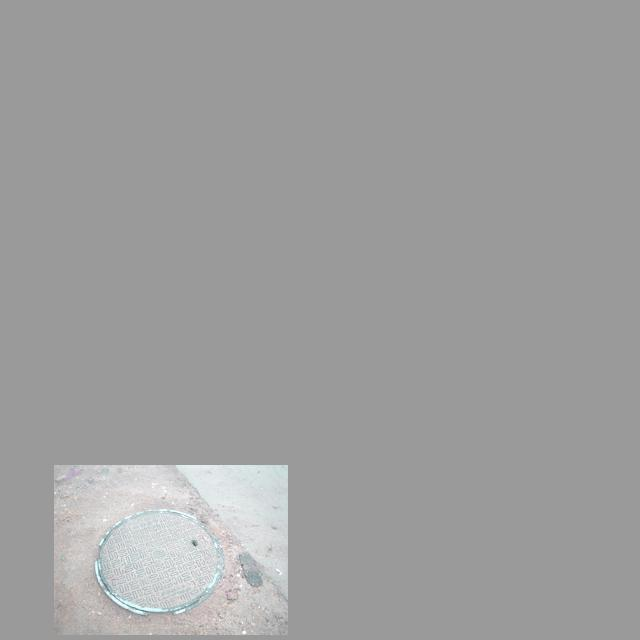good: (96, 508, 224, 615)
